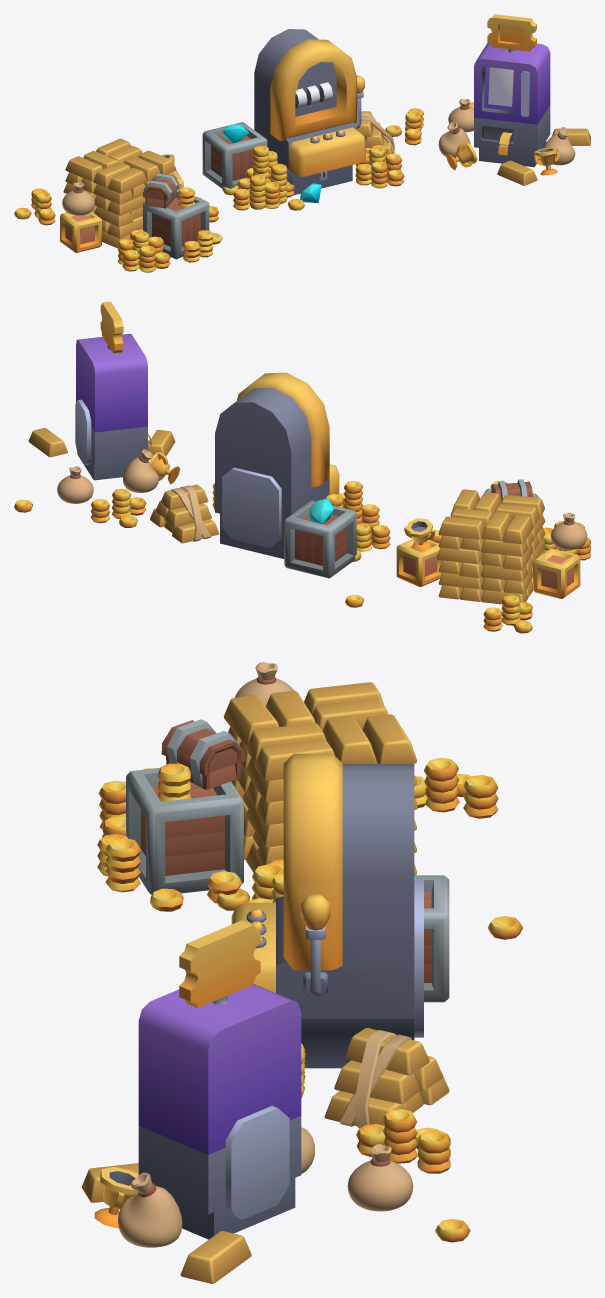
Rendered from SnipingBotPreview-transformed.glb.
3 views of the same model, one above another, from view 1: azimuth 30°, elevation 25°; view 2: azimuth 150°, elevation 25°; view 3: azimuth 270°, elevation 25° (orthographic). The views are drawn at different scales.
Parts seen in each view (by area): view 1: gambling-machine, coin_stack_large, Gold_Bar, lootSackA, crate-item, rotate-y, trophy, Collectible_Diamond_01; view 2: gambling-machine, Gold_Bar, coin_stack_large, crate-item, lootSackA, trophy, rotate-y, Collectible_Diamond_01; view 3: gambling-machine, coin_stack_large, Gold_Bar, lootSackA, rotate-y, trophy.
Boxes of the visible parts, bbox=[...] form: gambling-machine: bbox=[254, 29, 550, 195]; coin_stack_large: bbox=[14, 102, 473, 272]; Gold_Bar: bbox=[63, 111, 590, 248]; lootSackA: bbox=[62, 99, 575, 215]; crate-item: bbox=[60, 170, 183, 252]; rotate-y: bbox=[487, 14, 536, 51]; trophy: bbox=[161, 141, 559, 175]; Collectible_Diamond_01: bbox=[223, 124, 321, 202]; gambling-machine: bbox=[75, 333, 339, 558]; Gold_Bar: bbox=[28, 428, 545, 604]; coin_stack_large: bbox=[14, 479, 590, 633]; crate-item: bbox=[396, 539, 580, 598]; lootSackA: bbox=[57, 449, 587, 550]; trophy: bbox=[149, 452, 435, 550]; rotate-y: bbox=[100, 301, 123, 353]; Collectible_Diamond_01: bbox=[309, 498, 333, 523]; gambling-machine: bbox=[138, 753, 423, 1239]; coin_stack_large: bbox=[97, 719, 522, 1242]; Gold_Bar: bbox=[82, 682, 449, 1283]; lootSackA: bbox=[117, 662, 413, 1247]; rotate-y: bbox=[179, 920, 260, 1007]; trophy: bbox=[94, 1167, 138, 1228].
Bounding box in the file's own units: 18.03 × 4.75 × 6.71.
Materials: 8 (6 with a texture image).
